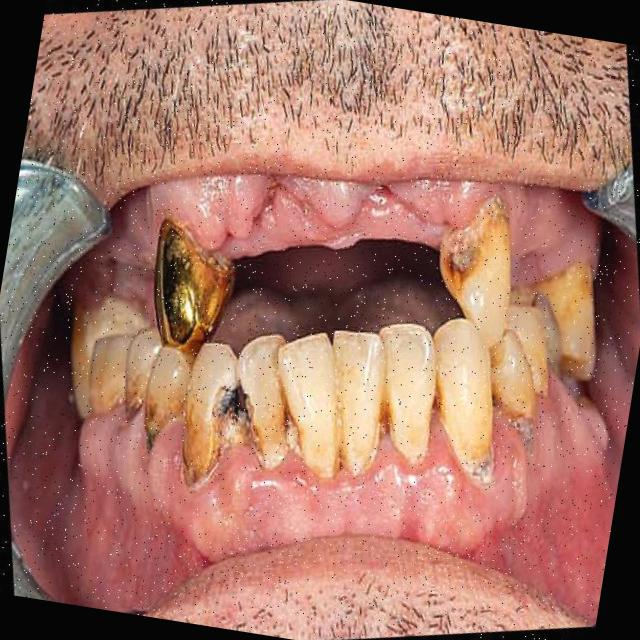calculus: (419, 188, 532, 309), (431, 385, 513, 508), (166, 394, 252, 505), (496, 376, 551, 456)
